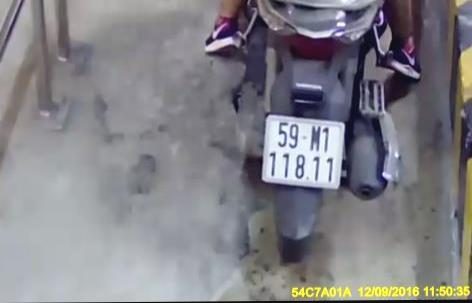License_Plate: (259, 110, 349, 195)
